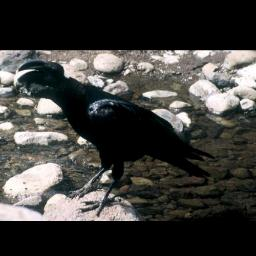Crow: (12, 58, 215, 217)
